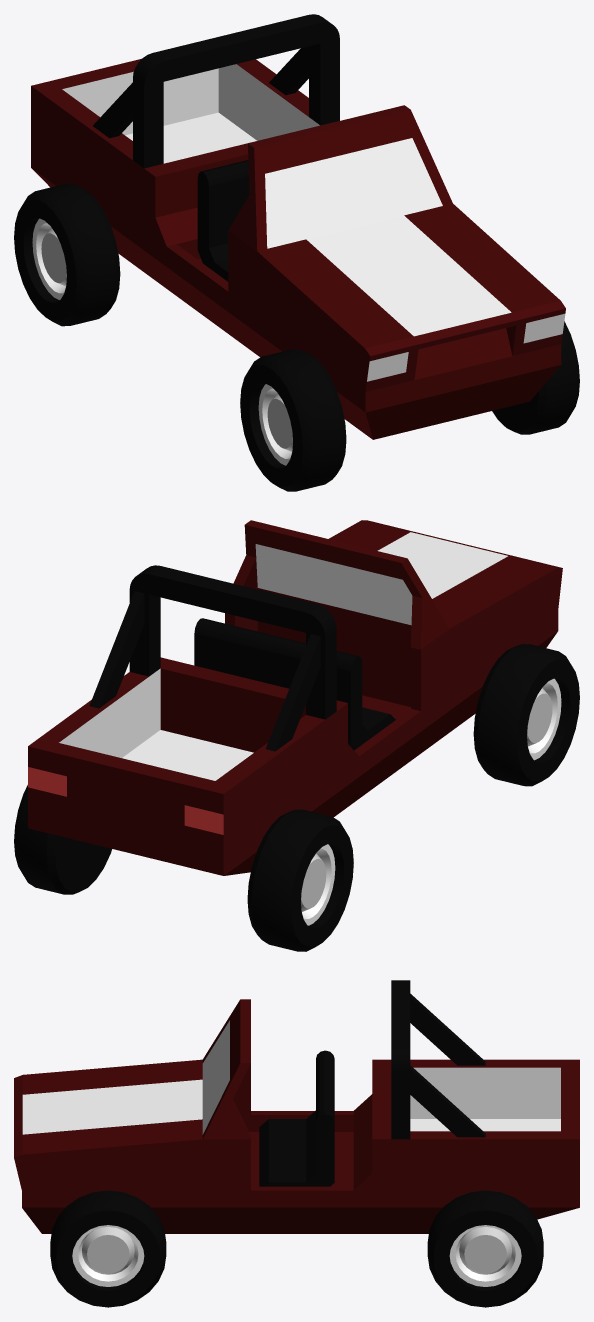
Rendered from car1.fbx.
3 renders of one model, top to bottom at view 1: azimuth 30°, elevation 25°; view 2: azimuth 150°, elevation 25°; view 3: azimuth 270°, elevation 25°, orthographic. The views are drawn at different scales.
Visible parts, largest first — view 1: body_frontSports, wheel_classic (×3), body_backBedClosed, body_topWindshield, detail_rollbar, body_suv, detail_seat; view 2: body_backBedClosed, wheel_classic (×3), body_suv, body_frontSports, detail_rollbar, body_topWindshield, detail_seat (×2); view 3: body_frontSports, body_backBedClosed, wheel_classic (×2), body_suv, detail_rollbar, detail_seat (×2), body_topWindshield.
Part boxes in pixels (x1,y1,x2,y2): body_frontSports: (257,203,565,439); wheel_classic (×3): (14,184,579,491); body_backBedClosed: (31,58,319,286); body_topWindshield: (228,105,452,251); detail_rollbar: (93,14,339,168); body_suv: (144,121,338,357); detail_seat: (197,160,249,281); body_backBedClosed: (28,668,336,875); wheel_classic (×3): (14,644,579,951); body_suv: (160,588,449,817); body_frontSports: (329,520,562,746); detail_rollbar: (89,565,336,751); body_topWindshield: (233,520,449,649); detail_seat (×2): (194,618,395,750); body_frontSports: (14,1059,202,1233); body_backBedClosed: (391,1059,579,1233); wheel_classic (×2): (50,1190,543,1307); body_suv: (202,1059,391,1233); detail_rollbar: (391,980,485,1139); detail_seat (×2): (259,1050,334,1186); body_topWindshield: (202,999,250,1139).
Size of the model in its own units: 14.16 by 14.08 by 30.
